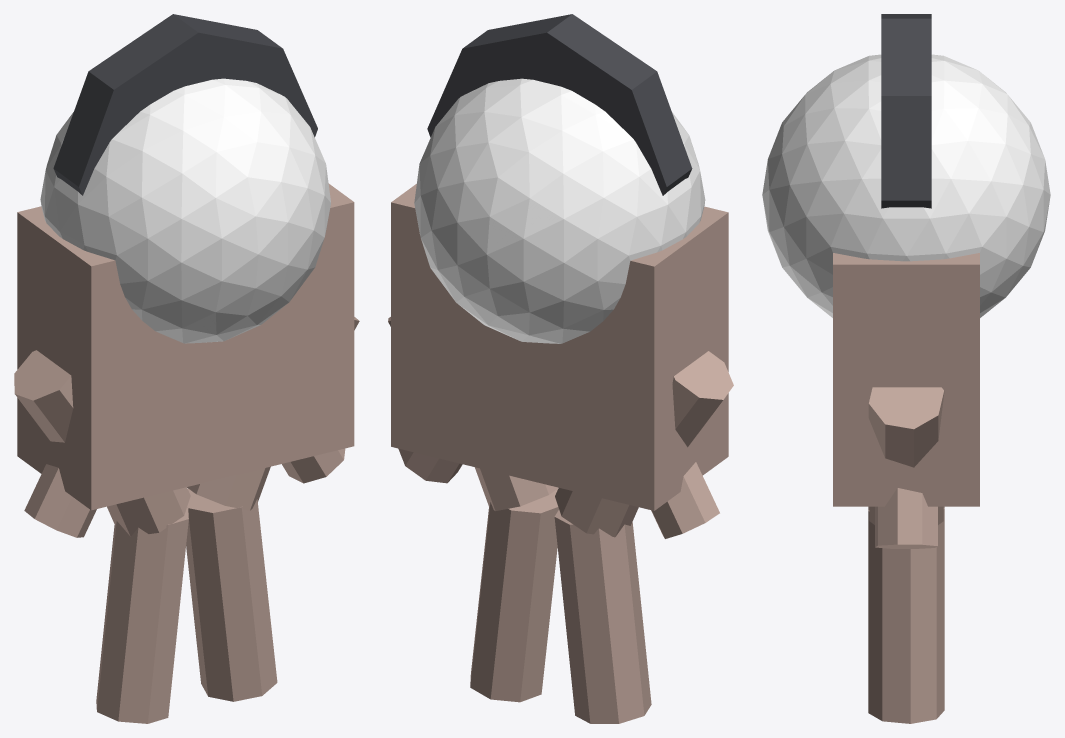
The model's file is a4acca1b-e292-4fc8-a31c-ef372c35302f.glb.
The picture shows the model from 3 angles, left to right: view 1: azimuth 30°, elevation 25°; view 2: azimuth 150°, elevation 25°; view 3: azimuth 270°, elevation 25°; orthographic projection.
Parts seen in each view (by area): view 1: world; view 2: world; view 3: world.
Part boxes in pixels (x1,y1,x2,y2): world: [14, 14, 359, 723]; world: [388, 14, 733, 723]; world: [762, 14, 1050, 723].
Size of the model in its own units: 0.8132 by 1.57 by 0.612.
